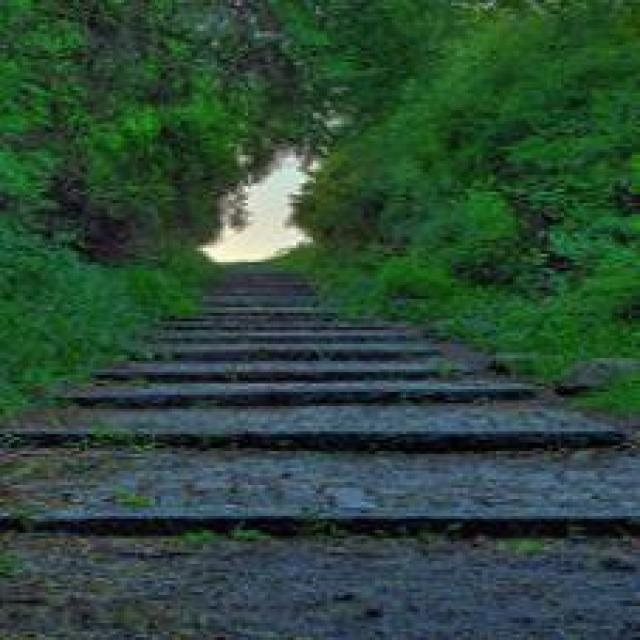stair: (59, 319, 615, 581)
